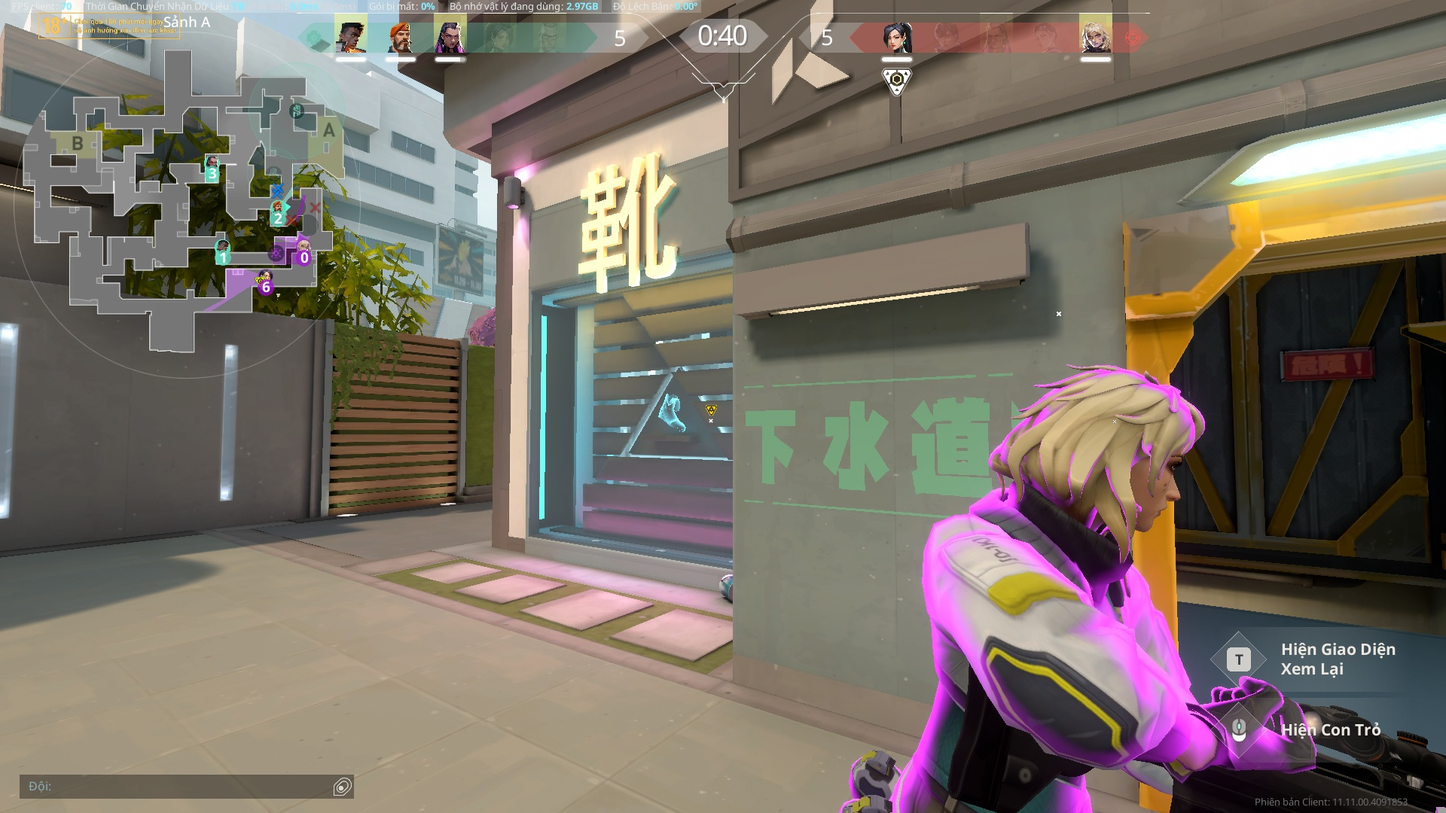body: (913, 495, 1164, 754)
head: (1026, 355, 1183, 526)
